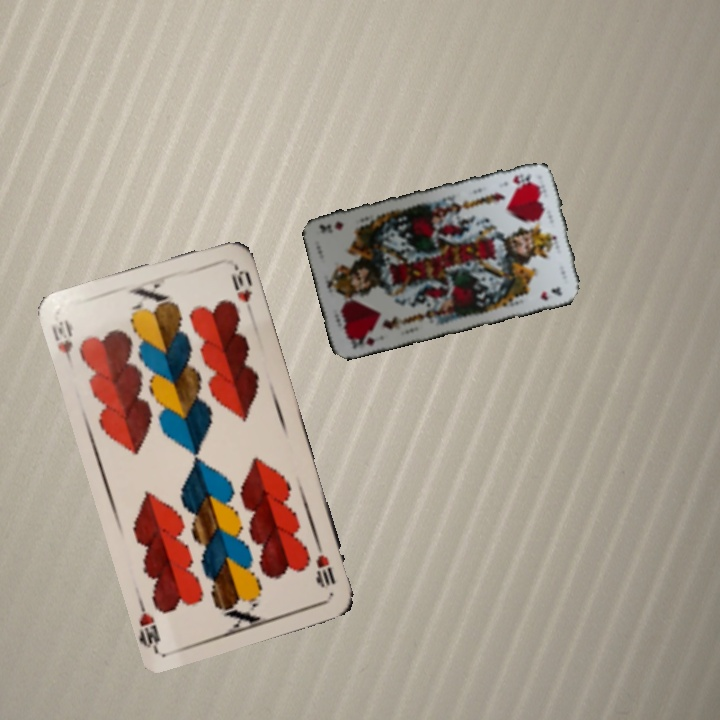H10: (47, 315, 77, 372), (311, 538, 339, 590)
HK: (344, 329, 382, 351), (508, 169, 535, 188)
